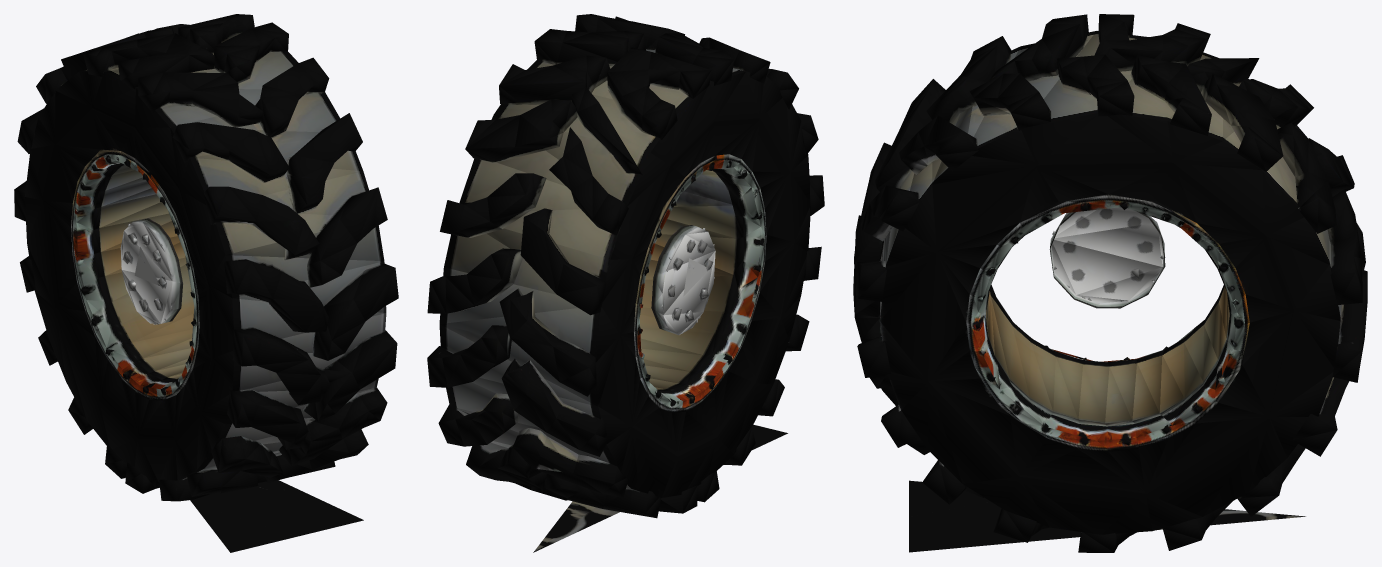
File: wheel_monster.glb
3 views of the same model, side by side, from view 1: azimuth 30°, elevation 25°; view 2: azimuth 150°, elevation 25°; view 3: azimuth 270°, elevation 25° (orthographic). The views are drawn at different scales.
Parts seen in each view (by area): view 1: tripo_node_8d2671a1-0bab-43a1-9005-e52ecdfb7c4c; view 2: tripo_node_8d2671a1-0bab-43a1-9005-e52ecdfb7c4c; view 3: tripo_node_8d2671a1-0bab-43a1-9005-e52ecdfb7c4c.
Boxes of the visible parts, <box> form: tripo_node_8d2671a1-0bab-43a1-9005-e52ecdfb7c4c: <box>14,14,398,552</box>; tripo_node_8d2671a1-0bab-43a1-9005-e52ecdfb7c4c: <box>427,14,824,552</box>; tripo_node_8d2671a1-0bab-43a1-9005-e52ecdfb7c4c: <box>853,14,1367,552</box>.
Size of the model in its own units: 0.3929 by 0.998 by 0.9994.
1 material, 1 textured.
